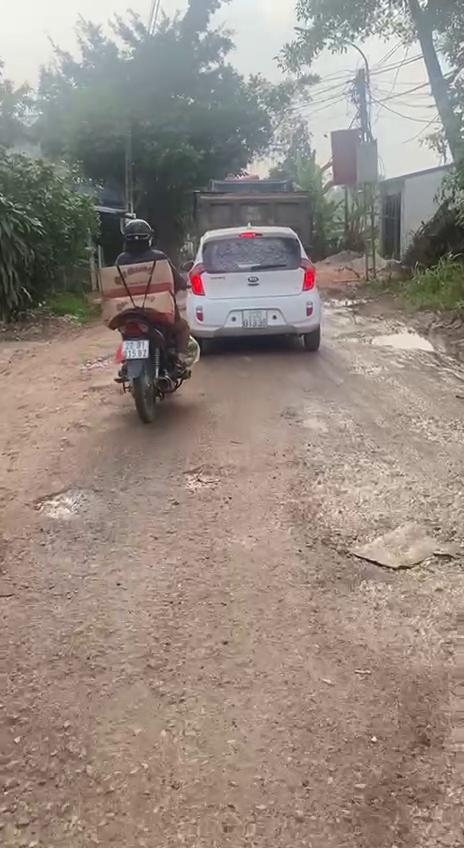pothole: (326, 517, 464, 583), (19, 478, 116, 526), (176, 457, 239, 497)
